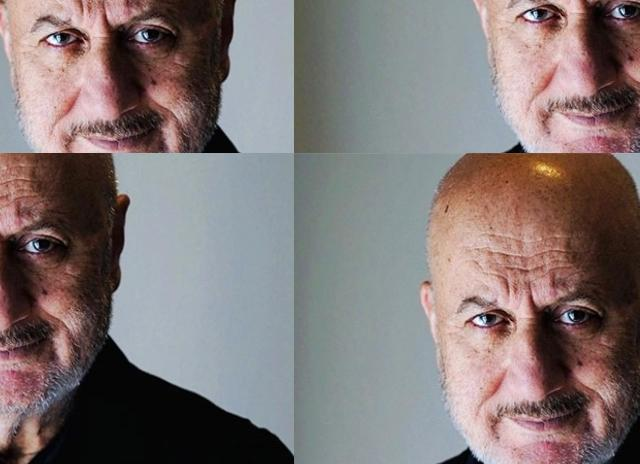crows_feet: (608, 0, 626, 14)
forehead: (0, 341, 124, 383), (98, 252, 188, 294), (0, 268, 64, 309), (0, 307, 69, 344), (259, 240, 294, 281), (476, 242, 514, 260), (501, 260, 542, 276), (538, 242, 574, 258), (538, 231, 574, 246), (482, 230, 520, 244), (502, 274, 512, 294)
frown_line: (205, 374, 247, 462), (524, 288, 540, 312)
gummy_smile: (576, 376, 606, 399), (484, 368, 504, 400), (581, 18, 603, 40), (508, 20, 528, 36)
